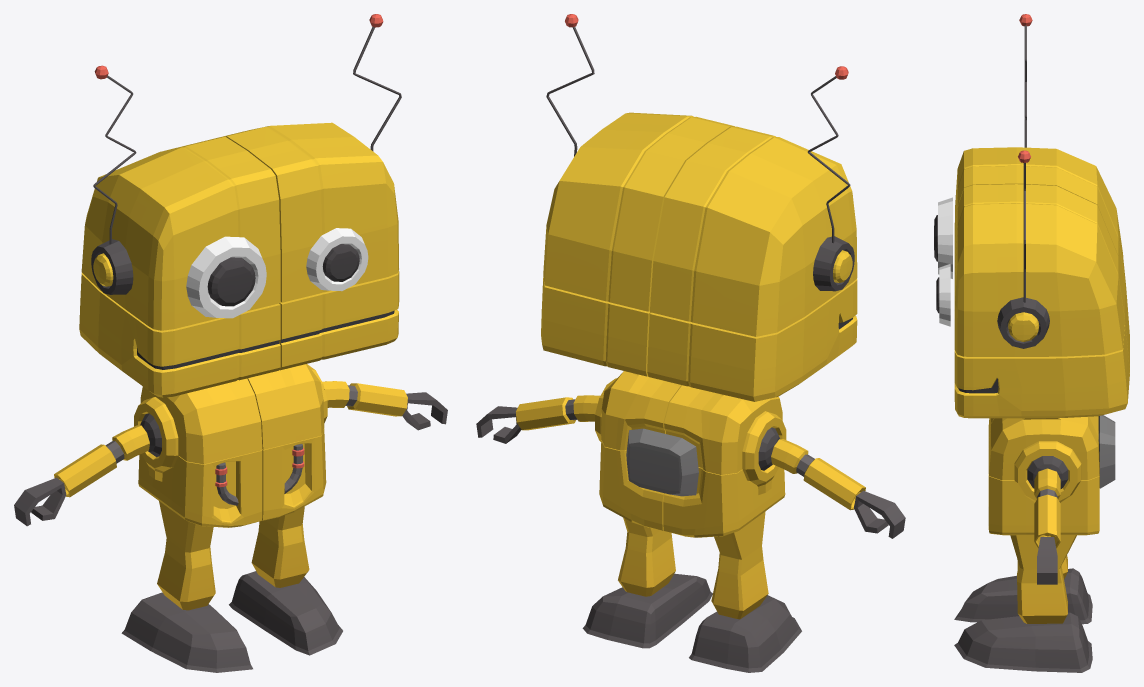
Rendered from Level_P_12.fbx.
3 views of the same model, side by side, from view 1: azimuth 30°, elevation 25°; view 2: azimuth 150°, elevation 25°; view 3: azimuth 270°, elevation 25° (orthographic). The views are drawn at different scales.
Visible parts, largest first — view 1: Cube_12.017, Cube_12.015, Cube_12.016, Cube_12.018, Cube_12.013, Cube_12.008, Cube_12.021, Cube_12.007, Cube_12.003, Cube_12.020, Cube_12.011, Cube_12.014 (+7 smaller); view 2: Cube_12.017, Cube_12.015, Cube_12.016, Cube_12.018, Cube_12.021, Cube_12.007, Cube_12.013, Cube_12.008, Cube_12.011, Cube_12.002, Cube_12.020, Cube_12.019 (+6 smaller); view 3: Cube_12.015, Cube_12.018, Cube_12.017, Cube_12.007, Cube_12.020, Cube_12.014, Cube_12.010, Cube_12.008, Cube_12.009, Cube_12.022, Cube_12.005, Cube_12.003 (+3 smaller).
Part boxes in pixels (x1,y1,x2,y2): Cube_12.017: (81,136,280,330); Cube_12.015: (208,122,398,302); Cube_12.016: (79,273,280,397); Cube_12.018: (279,271,399,370); Cube_12.013: (138,450,262,527); Cube_12.008: (121,592,252,672); Cube_12.021: (140,378,262,464); Cube_12.007: (229,571,342,655); Cube_12.003: (186,236,266,318); Cube_12.020: (247,364,324,449); Cube_12.011: (157,501,215,610); Cube_12.014: (260,428,326,521); Cube_12.017: (649,126,857,336); Cube_12.015: (543,112,734,311); Cube_12.016: (647,279,857,401); Cube_12.018: (541,277,651,376); Cube_12.021: (664,385,782,474); Cube_12.007: (582,573,712,648); Cube_12.013: (663,467,785,537); Cube_12.008: (689,595,801,672); Cube_12.011: (711,511,768,619); Cube_12.002: (771,439,905,538); Cube_12.020: (601,371,681,450); Cube_12.019: (626,428,698,496); Cube_12.015: (954,184,1124,356); Cube_12.018: (954,304,1129,418); Cube_12.017: (954,147,1124,299); Cube_12.007: (954,612,1092,672); Cube_12.020: (988,416,1099,480); Cube_12.014: (988,474,1099,535); Cube_12.010: (1010,535,1076,623); Cube_12.008: (954,568,1092,624); Cube_12.009: (1034,468,1060,584); Cube_12.022: (1014,441,1081,502); Cube_12.005: (997,150,1049,348); Cube_12.003: (934,197,952,278).
Size of the model in its own units: 9.61 by 13.1 by 4.19.
